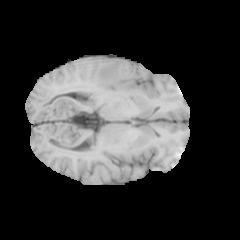glioma: (72, 56, 150, 97)
